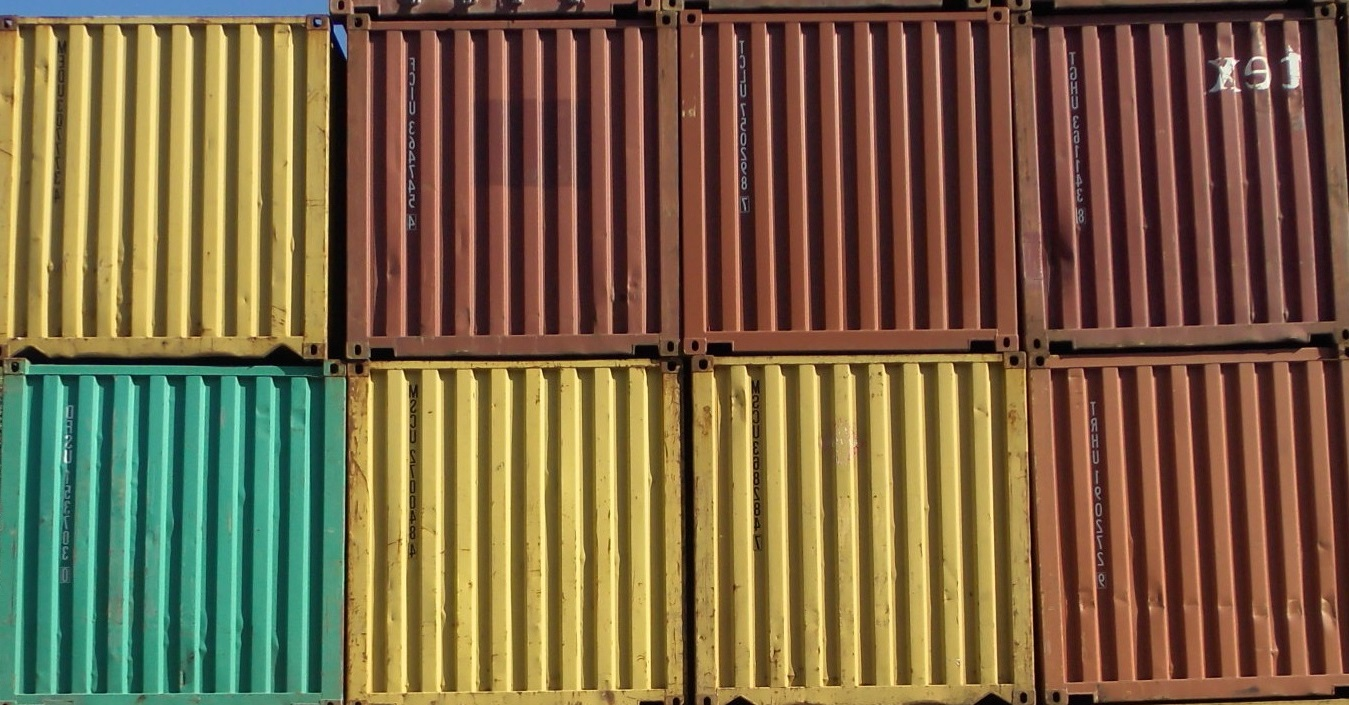container_no_door: (684, 354, 1024, 705), (341, 354, 680, 705), (1, 354, 339, 705), (339, 10, 677, 352), (682, 10, 1020, 352), (1011, 11, 1349, 352), (3, 14, 332, 358), (1032, 354, 1349, 705)
